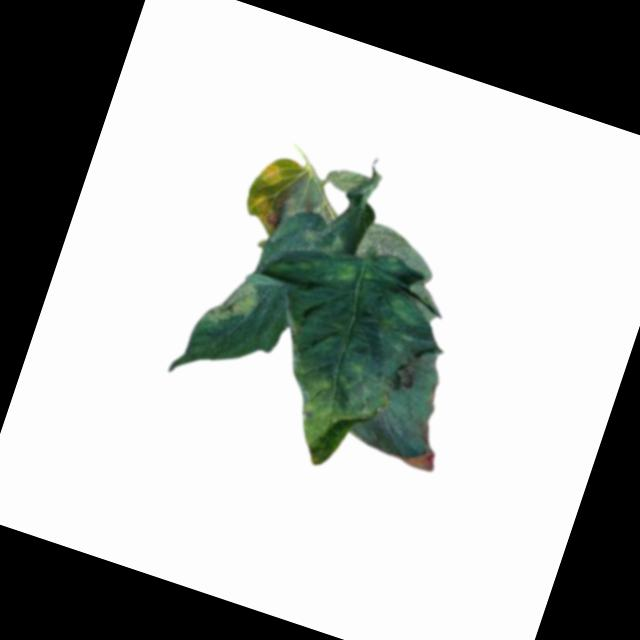Leaf_Mold: (237, 150, 302, 237), (200, 269, 267, 335), (345, 217, 419, 274), (383, 338, 444, 406)
